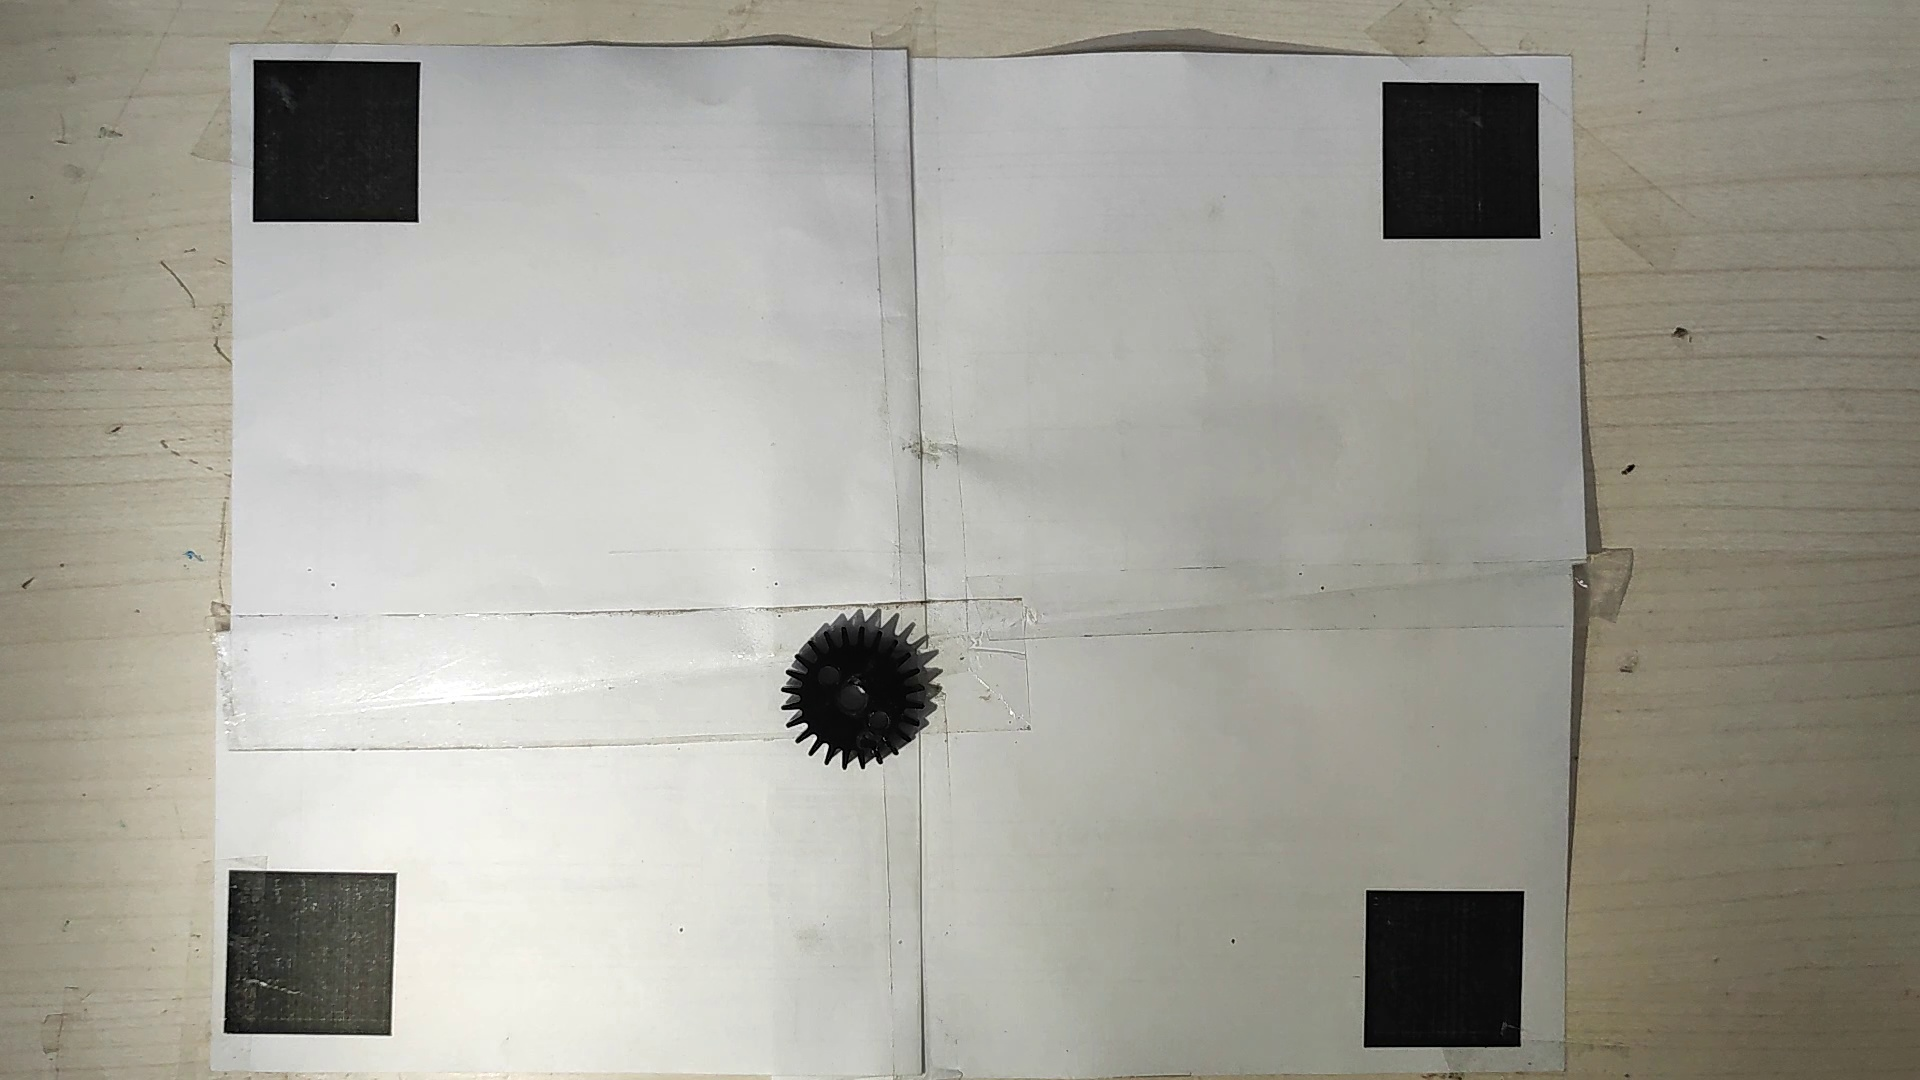Gear: (778, 616, 936, 775)
